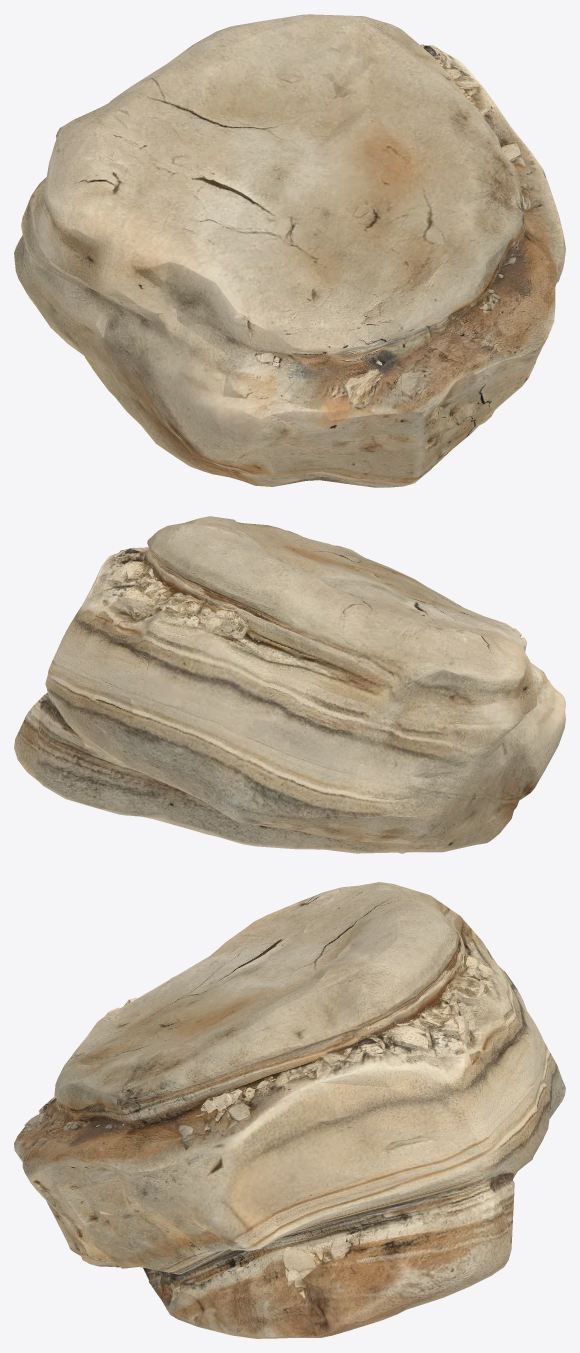
The model's file is rock_large.glb.
3 renders of one model, top to bottom at view 1: azimuth 30°, elevation 25°; view 2: azimuth 150°, elevation 25°; view 3: azimuth 270°, elevation 25°, orthographic. The views are drawn at different scales.
Visible parts, largest first — view 1: Mesh_0; view 2: Mesh_0; view 3: Mesh_0.
Boxes of the visible parts, left/top/right/bottom form: Mesh_0: left=14, top=14, right=565, bottom=487; Mesh_0: left=14, top=516, right=565, bottom=853; Mesh_0: left=14, top=882, right=565, bottom=1338.
Bounding box in the file's own units: 1.88 × 1.32 × 1.89.
Materials: 1 (1 with a texture image).
